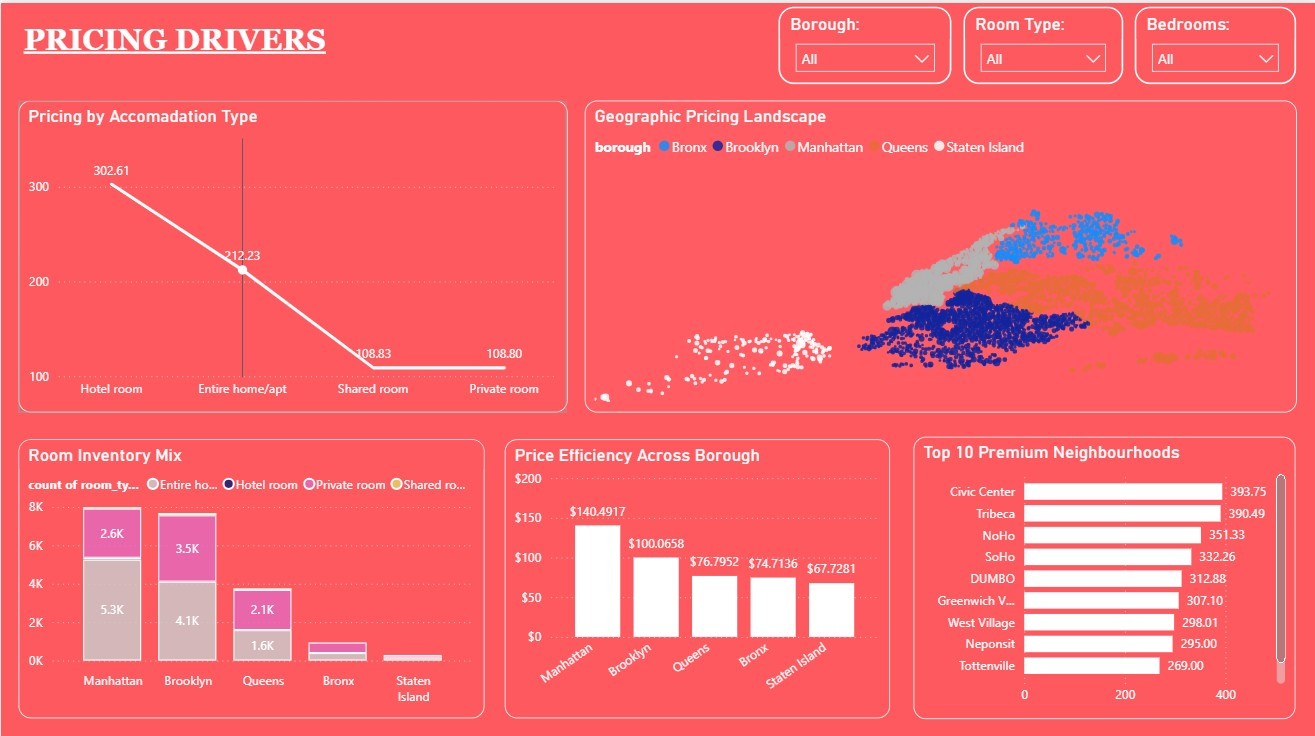

Layout of this report page (visuals, bound fields, positions):
{"tool":"powerbi","page":{"name":"Page 2","canvas":[1280,720],"ordinal":1},"visuals":[{"type":"slicer","title":"Borough:","fields":{"Values":["final_airbnb_data (1).borough"]},"box":[755,3.3,168.3,75],"z":0},{"type":"slicer","title":"Room Type:","fields":{"Values":["final_airbnb_data (1).room_type"]},"box":[935,3.3,155,75],"z":1000},{"type":"slicer","title":"Bedrooms:","fields":{"Values":["final_airbnb_data (1).bedrooms"]},"box":[1101.7,3.3,156.7,75],"z":2000},{"type":"lineChart","title":"Pricing by Accomadation Type","fields":{"Y":["Avg(final_airbnb_data (1).price)"],"Category":["final_airbnb_data (1).room_type"]},"box":[16.7,95,533.3,303.3],"z":3000},{"type":"columnChart","title":"Room Inventory Mix","fields":{"Category":["final_airbnb_data (1).borough"],"Y":["CountNonNull(final_airbnb_data (1).id)"],"Series":["final_airbnb_data (1).room_type"]},"box":[17.1,424.3,452.9,271.4],"z":4000},{"type":"clusteredColumnChart","title":"Price Efficiency Across Borough","fields":{"Category":["final_airbnb_data (1).borough"],"Y":["Avg(final_airbnb_data (1).price_per_bed)"]},"box":[490,424.3,374.3,271.4],"z":5000},{"type":"textbox","title":"PRICING DRIVERS","box":[16.7,18.3,608.3,76.7],"z":6000},{"type":"scatterChart","title":"Geographic Pricing Landscape","fields":{"X":["final_airbnb_data (1).longitude"],"Y":["final_airbnb_data (1).latitude"],"Series":["final_airbnb_data (1).borough"],"Size":["Avg(final_airbnb_data (1).price)"]},"box":[566.7,95,691.7,303.3],"z":7000},{"type":"clusteredBarChart","title":"Top 10 Premium Neighbourhoods","fields":{"Category":["final_airbnb_data (1).neighbourhood"],"Y":["Avg(final_airbnb_data (1).price)"]},"box":[887.1,421.4,371.4,274.3],"z":8000}]}

Visuals, with their boxes in screenshot pixels (x1, y1, x2, y2), scaled from the page's 1280x720 canvas onto the 1315x736 screenshot:
"Borough:" slicer: 776:3:949:80
"Room Type:" slicer: 961:3:1120:80
"Bedrooms:" slicer: 1132:3:1293:80
"Pricing by Accomadation Type" lineChart: 17:97:565:407
"Room Inventory Mix" columnChart: 18:434:483:711
"Price Efficiency Across Borough" clusteredColumnChart: 503:434:888:711
"PRICING DRIVERS" textbox: 17:19:642:97
"Geographic Pricing Landscape" scatterChart: 582:97:1293:407
"Top 10 Premium Neighbourhoods" clusteredBarChart: 911:431:1293:711
